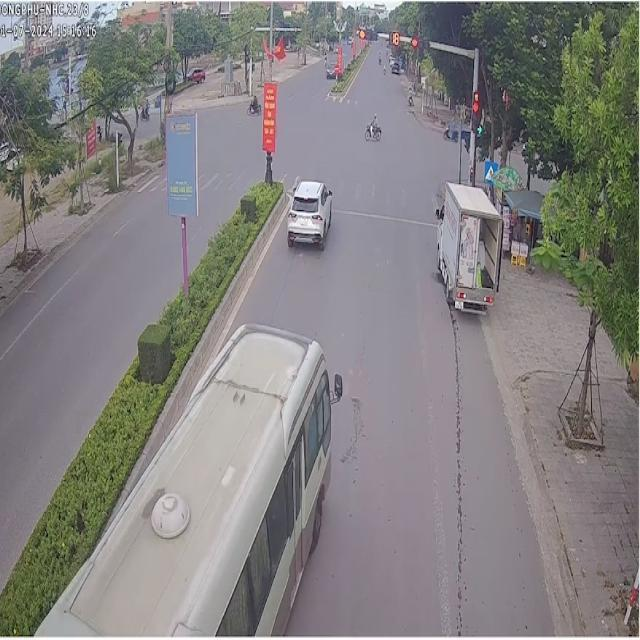car: (38, 323, 340, 635), (434, 182, 500, 311), (286, 178, 330, 247)
motobike: (363, 112, 379, 138)
red_light: (472, 91, 479, 134), (409, 36, 429, 49), (358, 28, 377, 38), (390, 31, 398, 45)
stop_line: (333, 207, 434, 225)
